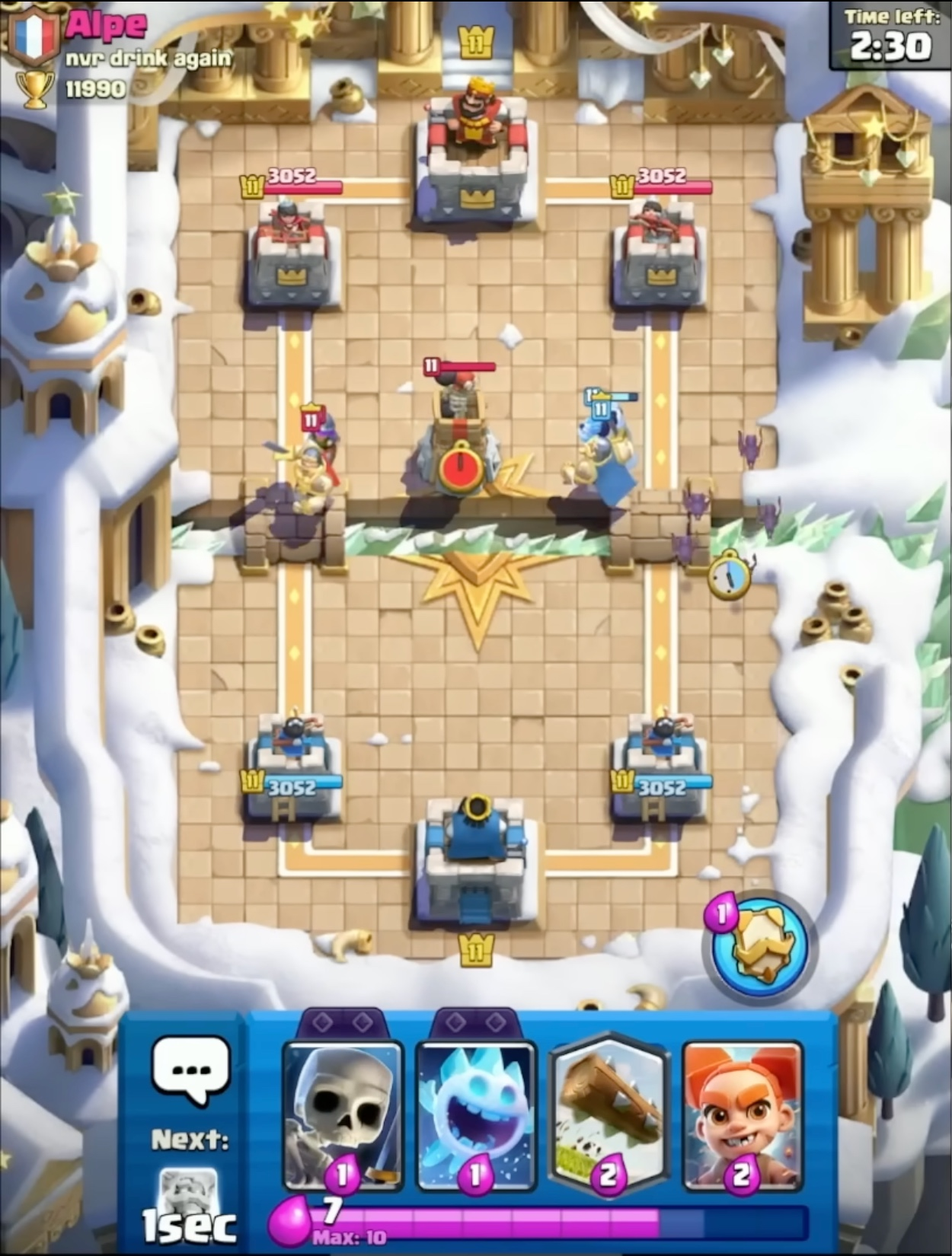hero-knight: (266, 405, 344, 527)
